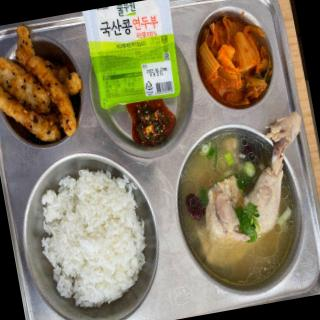Nasi: (32, 163, 159, 315)
